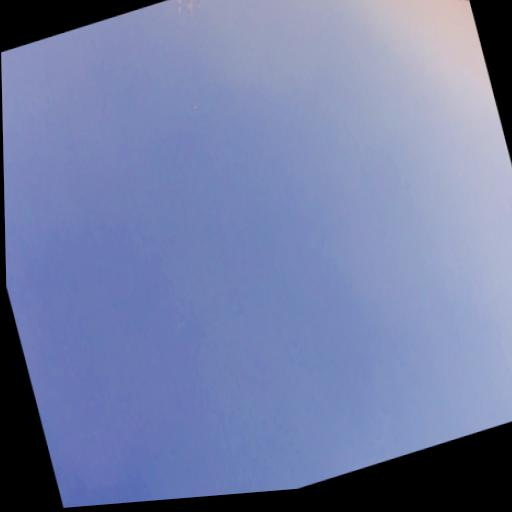drones: (190, 102, 197, 111)
